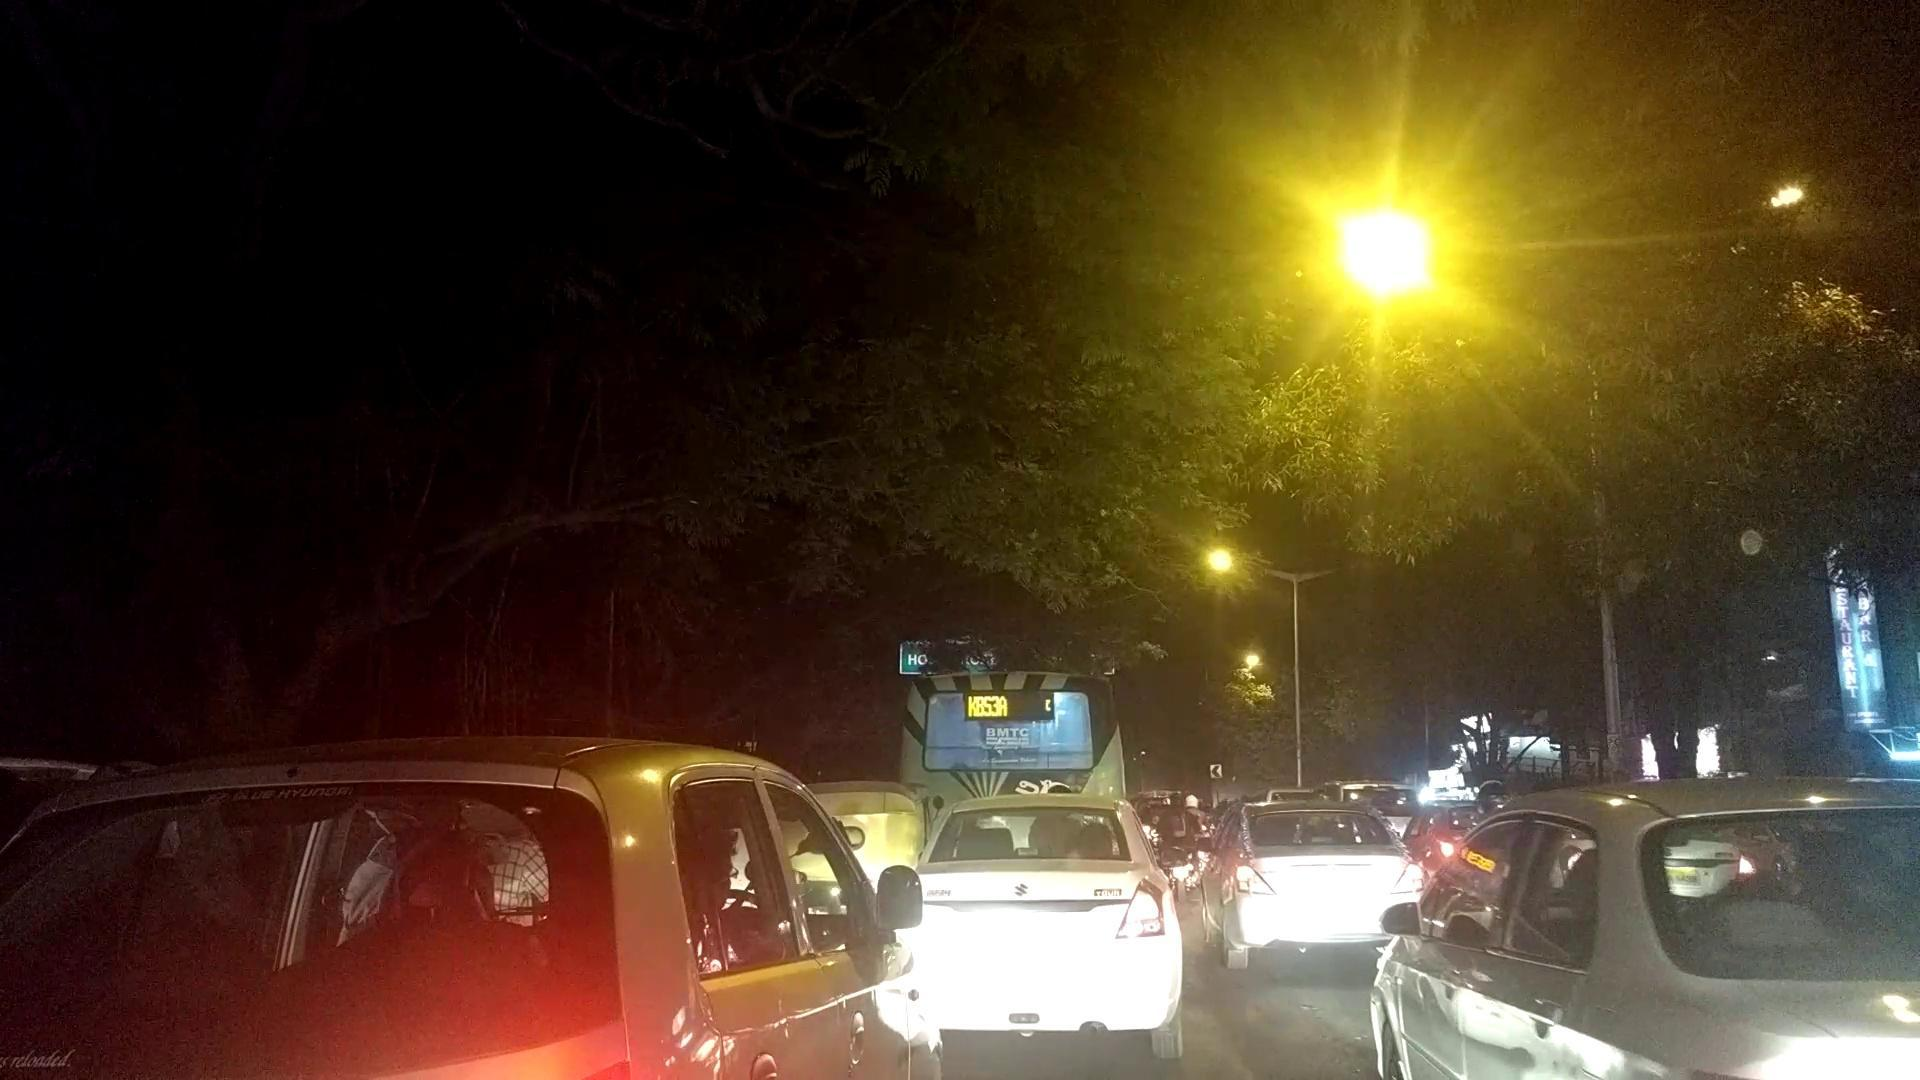on: (0, 22, 1920, 1080)
